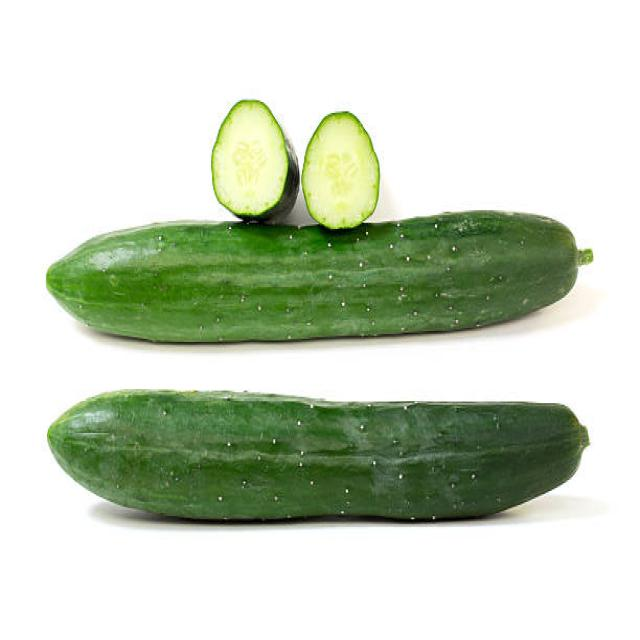cucumber: (47, 210, 580, 346), (47, 390, 584, 524)
